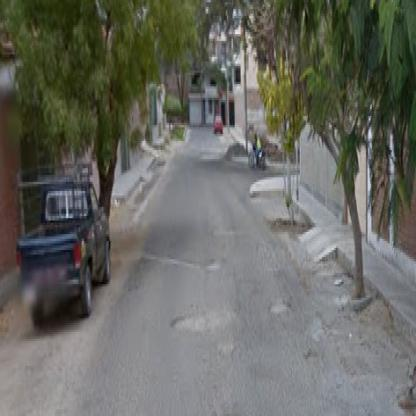Moto: (250, 135, 267, 171)
Obstaculo: (126, 251, 225, 274), (173, 308, 239, 333), (271, 303, 291, 315)
Vehiculo: (16, 162, 112, 326)
